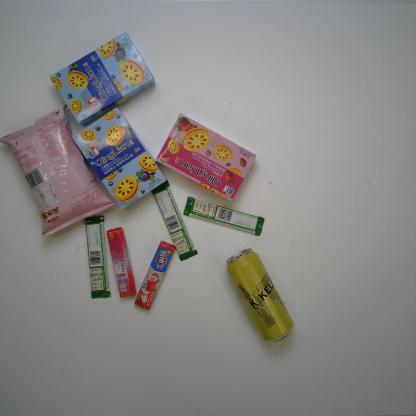Alcohol: (224, 249, 299, 350)
Candy: (132, 240, 180, 312), (105, 226, 138, 300)
Chocolate: (144, 180, 199, 267), (181, 192, 268, 242), (78, 216, 113, 301)
Dessert: (48, 30, 160, 132), (70, 107, 171, 214), (152, 111, 261, 203)
Puffed Food: (6, 107, 119, 244)
